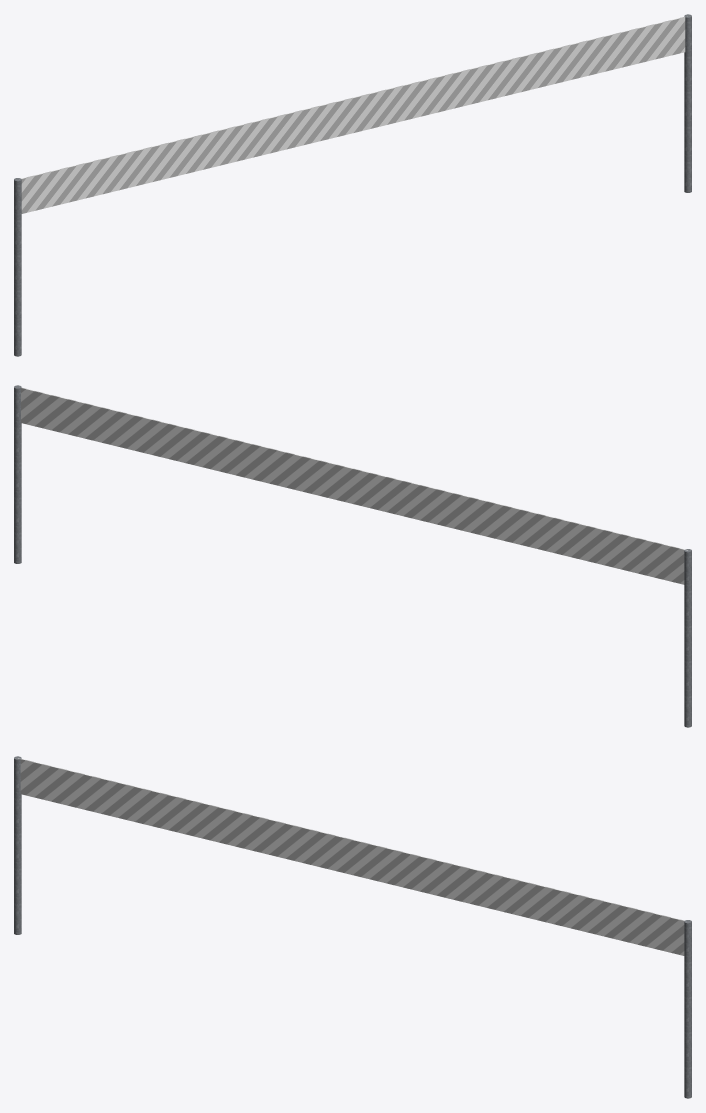
Rendered from checkpoint.fbx.
The picture shows the model from 3 angles, top to bottom: view 1: azimuth 30°, elevation 25°; view 2: azimuth 150°, elevation 25°; view 3: azimuth 330°, elevation 25°; orthographic projection.
Parts seen in each view (by area): view 1: block, cylinder (×2); view 2: block, cylinder (×2); view 3: block, cylinder (×2).
Boxes of the visible parts, x1,y1,x2,y2 form: block: [21, 16, 687, 213]; cylinder (×2): [14, 14, 691, 356]; block: [21, 387, 687, 584]; cylinder (×2): [14, 385, 691, 727]; block: [18, 758, 684, 955]; cylinder (×2): [14, 756, 691, 1098].
Bounding box in the file's own units: 202 × 50 × 2.
Materials: 2 (2 with a texture image).
